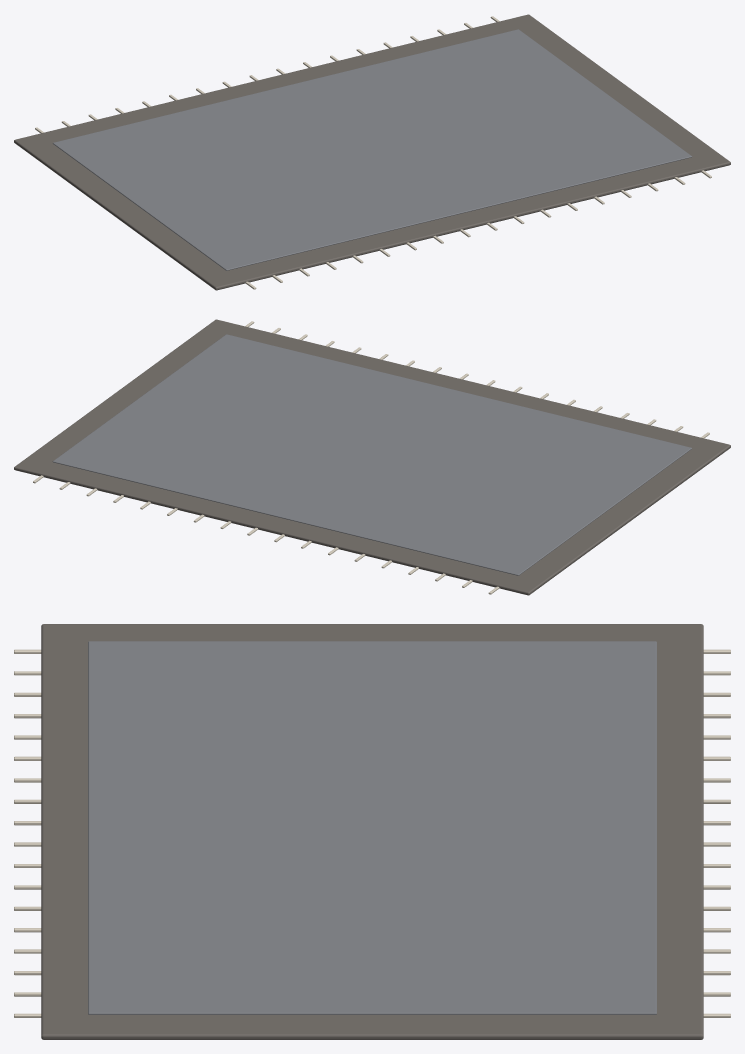
The model's file is modern_rug.obj.
3 views of the same model, one above another, from view 1: azimuth 30°, elevation 25°; view 2: azimuth 150°, elevation 25°; view 3: azimuth 270°, elevation 25° (orthographic). The views are drawn at different scales.
Parts seen in each view (by area): view 1: rug_border, rug; view 2: rug_border, rug; view 3: rug_border, rug.
Boxes of the visible parts, <box> form: rug_border: <box>53,29,692,270</box>; rug: <box>14,14,730,290</box>; rug_border: <box>52,334,691,575</box>; rug: <box>14,319,730,595</box>; rug_border: <box>88,641,656,1014</box>; rug: <box>41,624,703,1039</box>.
Size of the model in its own units: 2.5 by 0.022 by 1.84.
